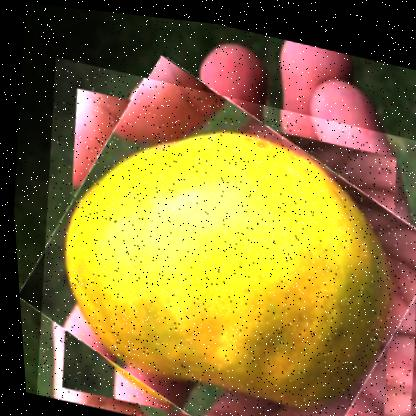orange: (10, 49, 415, 415)
